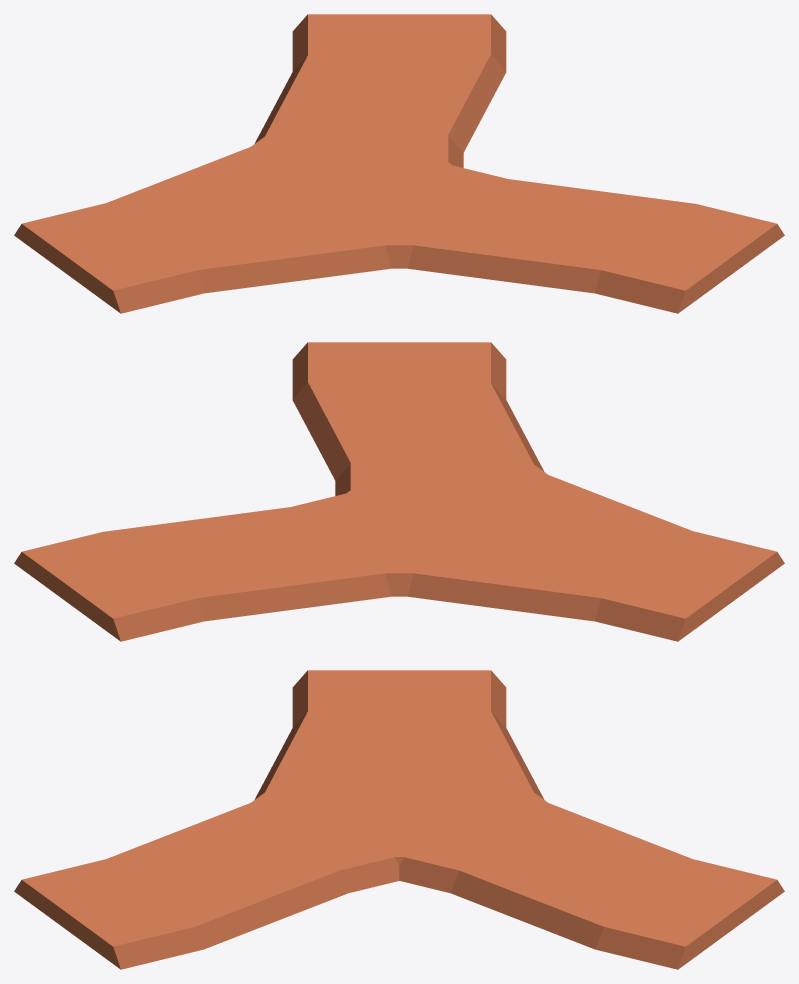
File: path_intersectionF.fbx
3 renders of one model, top to bottom at view 1: azimuth 30°, elevation 25°; view 2: azimuth 150°, elevation 25°; view 3: azimuth 270°, elevation 25°, orthographic.
Visible parts, largest first — view 1: path_intersectionF; view 2: path_intersectionF; view 3: path_intersectionF.
Part boxes in pixels (left/top/right/bottom): path_intersectionF: left=14, top=14, right=784, bottom=313; path_intersectionF: left=14, top=342, right=784, bottom=641; path_intersectionF: left=14, top=670, right=784, bottom=969.
Size of the model in its own units: 8.71 by 0.25 by 10.06.
